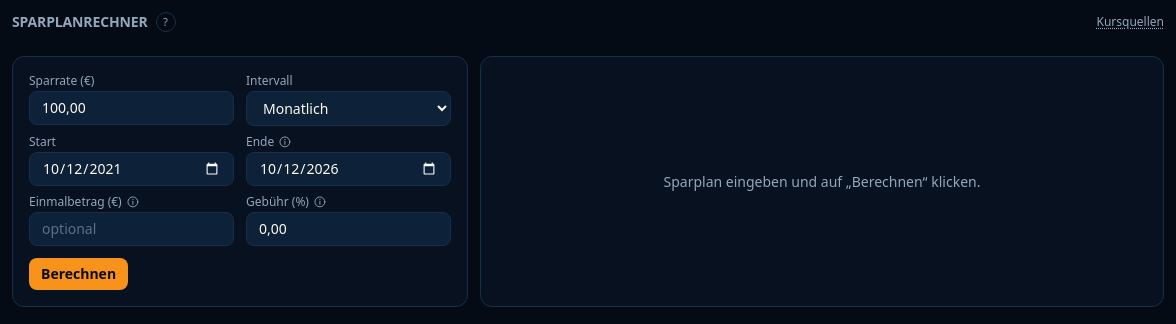
Test: savings plan calculator › reports a failed load in place
Click the button "Berechnen": (79, 274) [29,258,128,290]
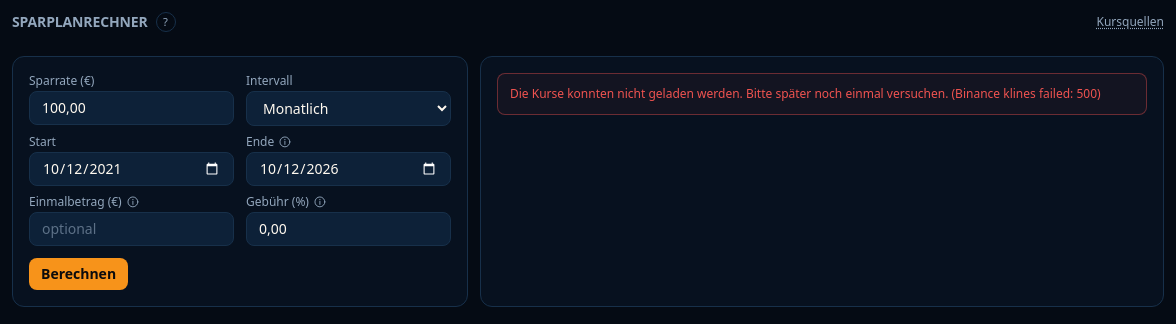
Expected: the message shows "nicht geladen", [510,85,1101,102]
